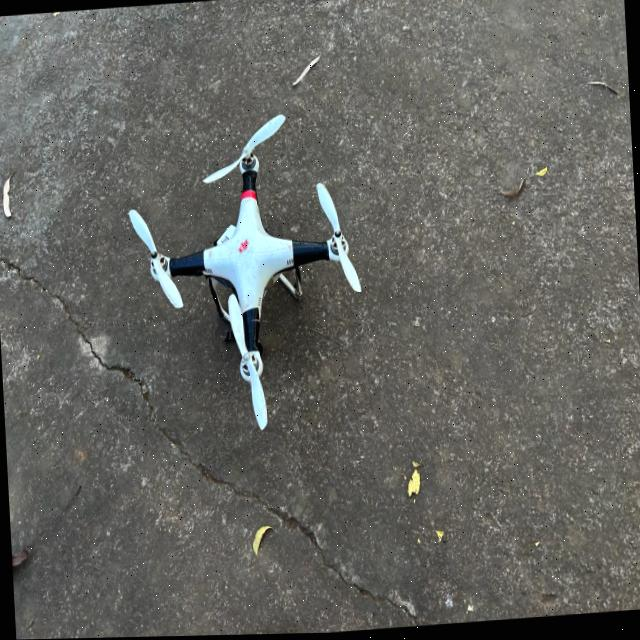drone: (95, 83, 426, 475)
